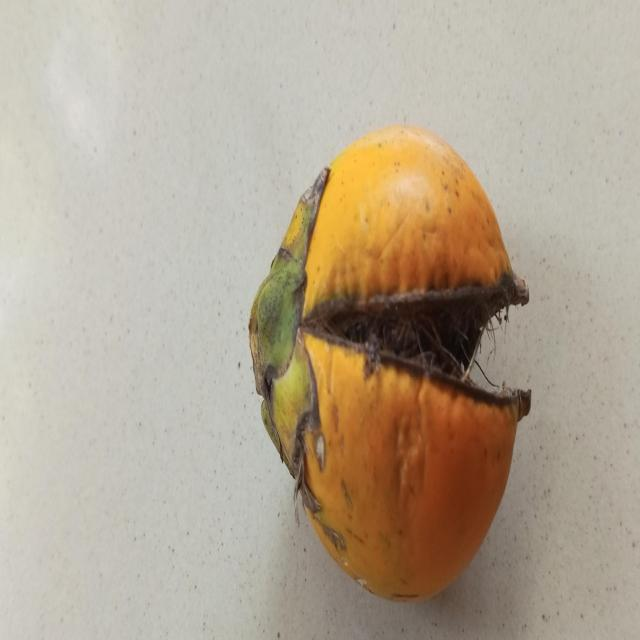damaged: (249, 126, 531, 600)
